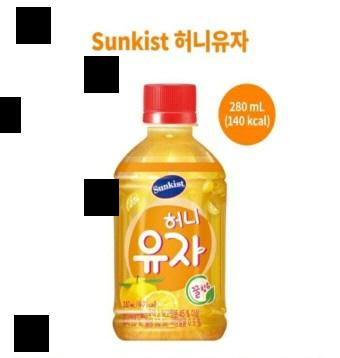honeyyuja: (106, 82, 228, 346)
